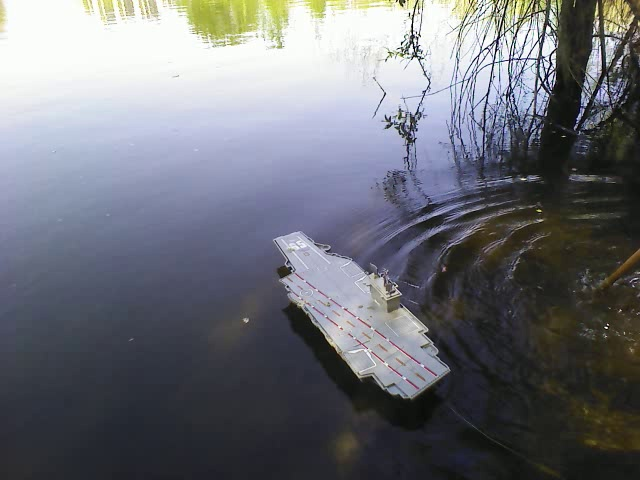aircraft_carrier: (274, 230, 450, 403)
